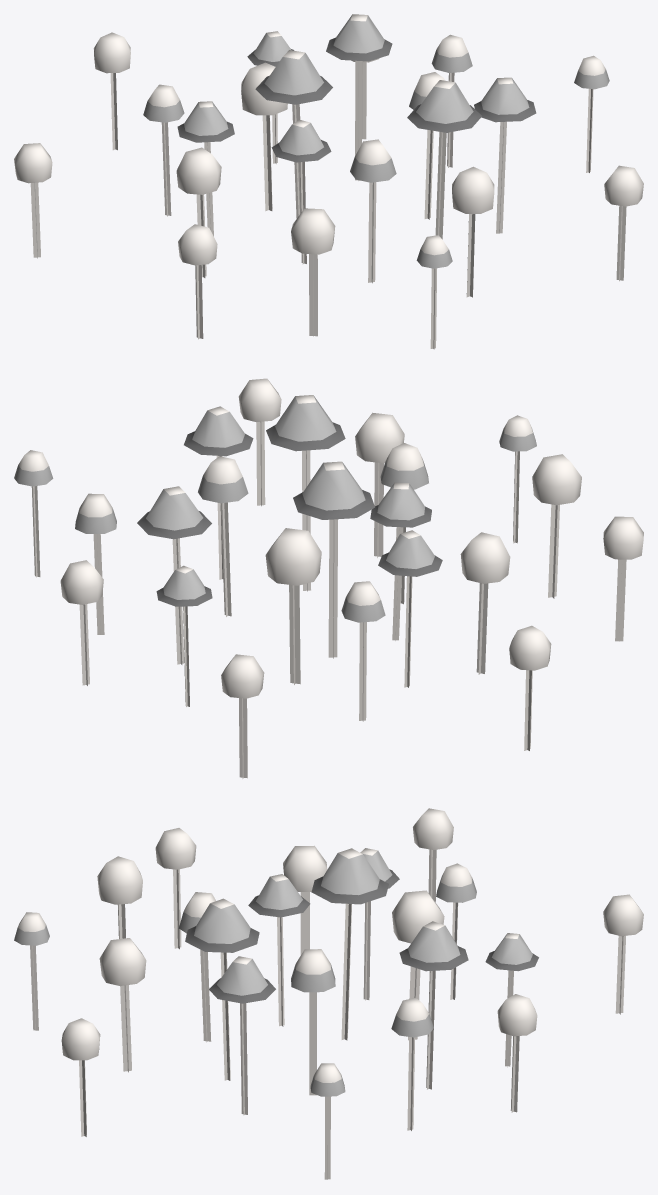
File: White_Mushrooms_Cluster_1.glb
3 views of the same model, one above another, from view 1: azimuth 30°, elevation 25°; view 2: azimuth 150°, elevation 25°; view 3: azimuth 270°, elevation 25° (orthographic). The views are drawn at different scales.
Parts seen in each view (by area): view 1: White_Mushrooms_Cluster_1; view 2: White_Mushrooms_Cluster_1; view 3: White_Mushrooms_Cluster_1.
Boxes of the visible parts, bbox=[...] form: White_Mushrooms_Cluster_1: bbox=[14, 14, 643, 349]; White_Mushrooms_Cluster_1: bbox=[14, 378, 643, 778]; White_Mushrooms_Cluster_1: bbox=[14, 808, 643, 1179].
Bounding box in the file's own units: 0.6753 × 0.2139 × 0.6646.
1 material, 1 textured.
